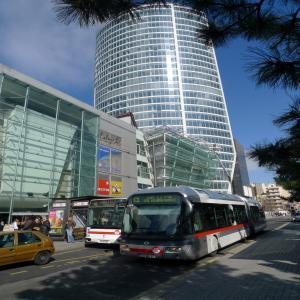Vehicle-registration-plate: (138, 256, 157, 259), (101, 241, 109, 243)
